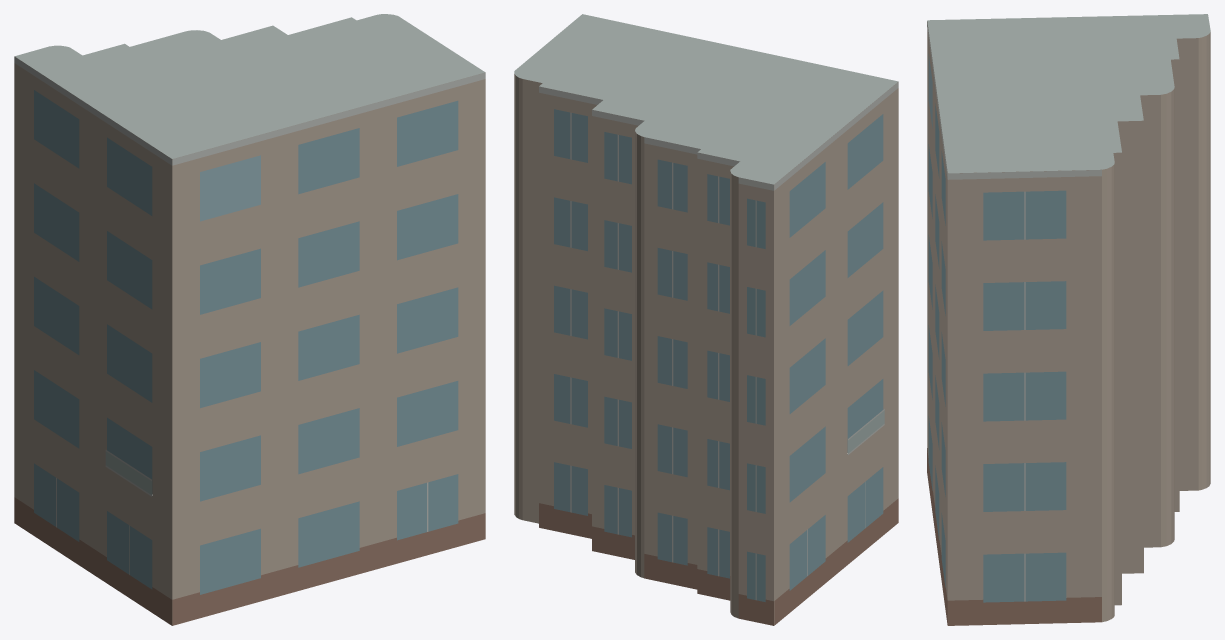
File: survey-upis-32777151.glb
3 renders of one model, left to right at view 1: azimuth 30°, elevation 25°; view 2: azimuth 150°, elevation 25°; view 3: azimuth 270°, elevation 25°, orthographic. The views are drawn at different scales.
Parts seen in each view (by area): view 1: survey-upis-32777151.tmp; view 2: survey-upis-32777151.tmp; view 3: survey-upis-32777151.tmp.
Part boxes in pixels (bbox=[...]): survey-upis-32777151.tmp: bbox=[14, 14, 485, 625]; survey-upis-32777151.tmp: bbox=[514, 14, 898, 625]; survey-upis-32777151.tmp: bbox=[927, 14, 1210, 625].
Bounding box in the file's own units: 12.97 × 17.16 × 9.76.
